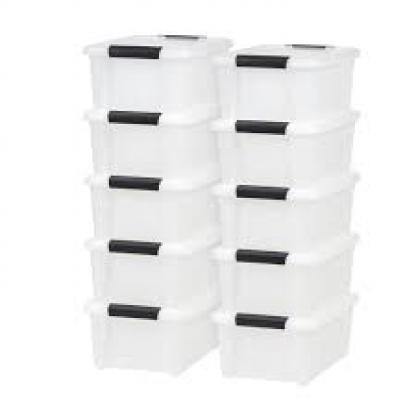plastic_box: (209, 13, 370, 128), (209, 176, 366, 255)
